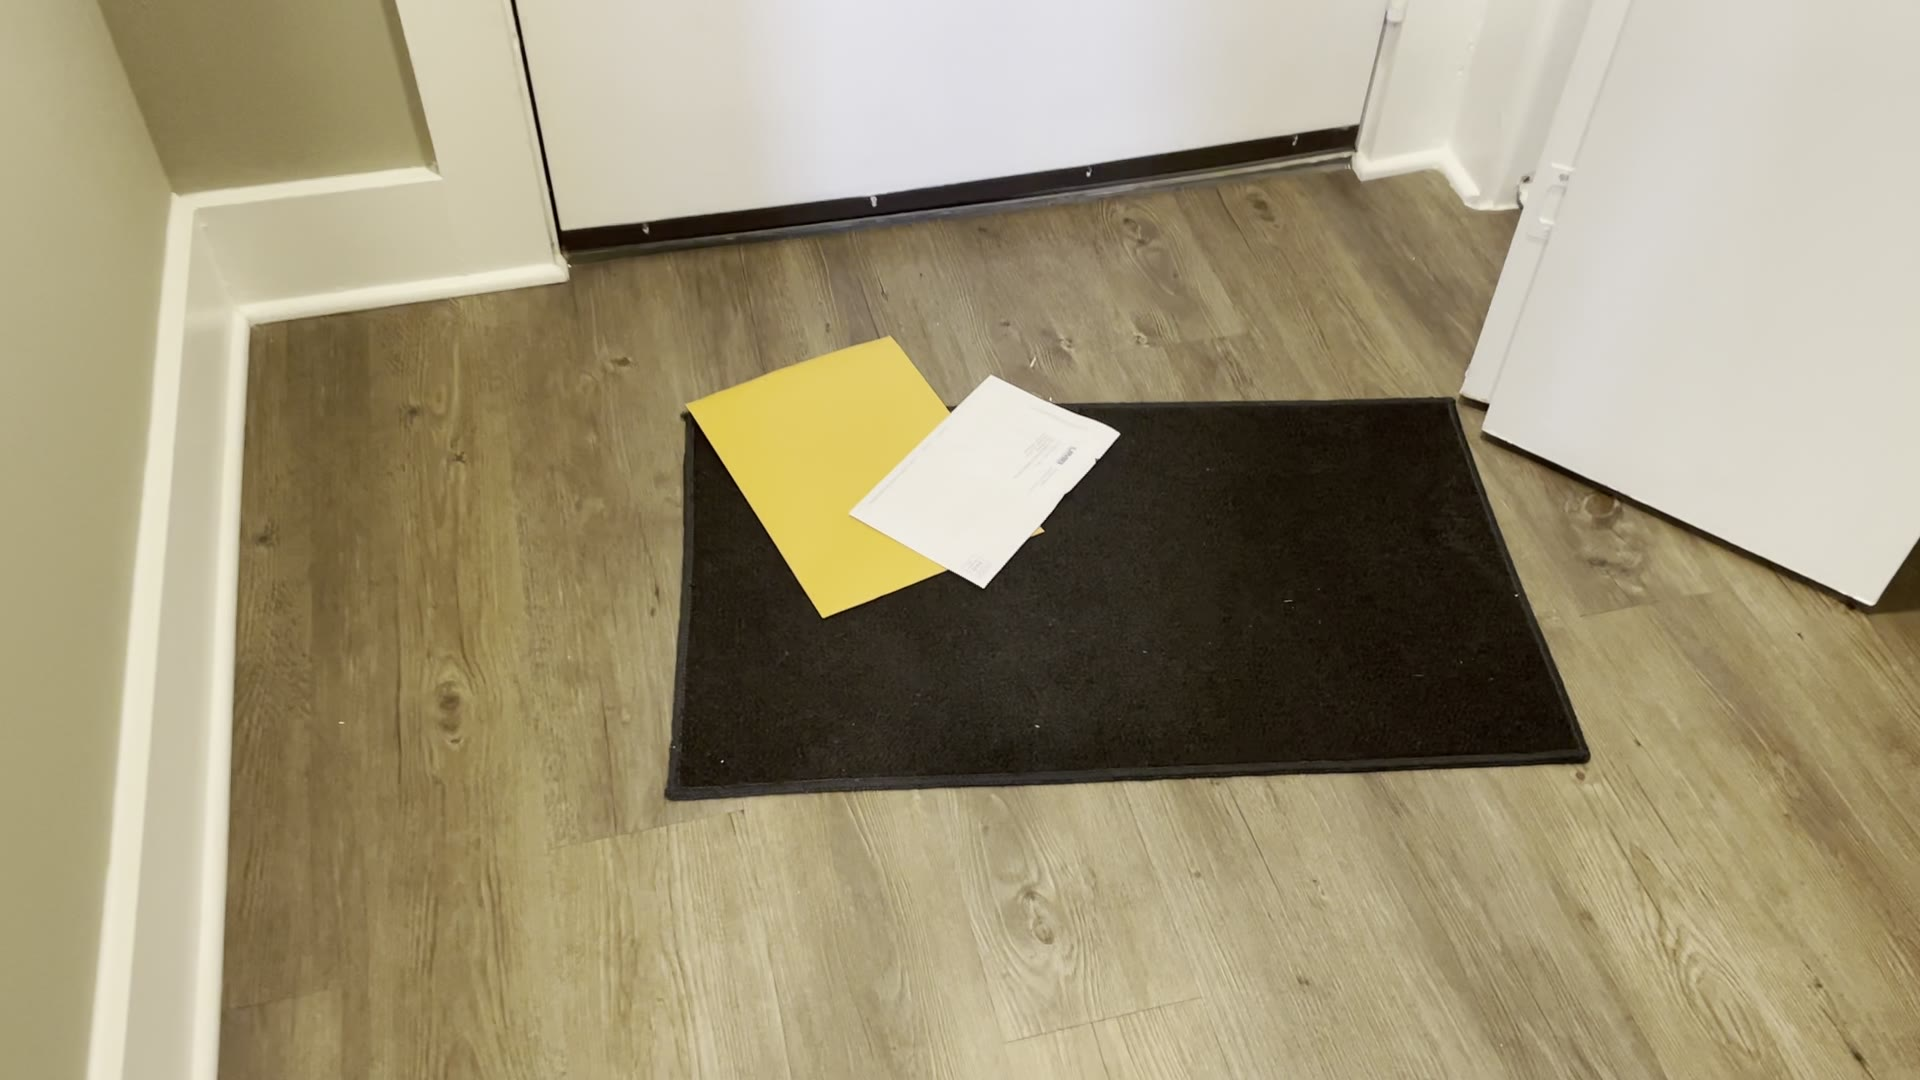envelope: (680, 335, 957, 620), (841, 372, 1127, 592)
